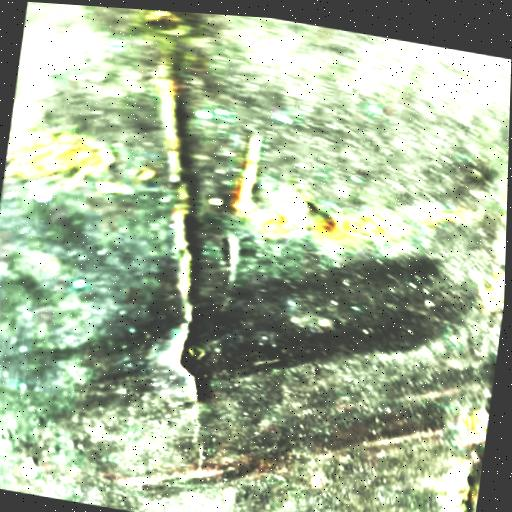crack: (154, 236, 228, 414)
